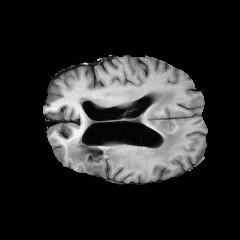glioma: (67, 90, 189, 169)
